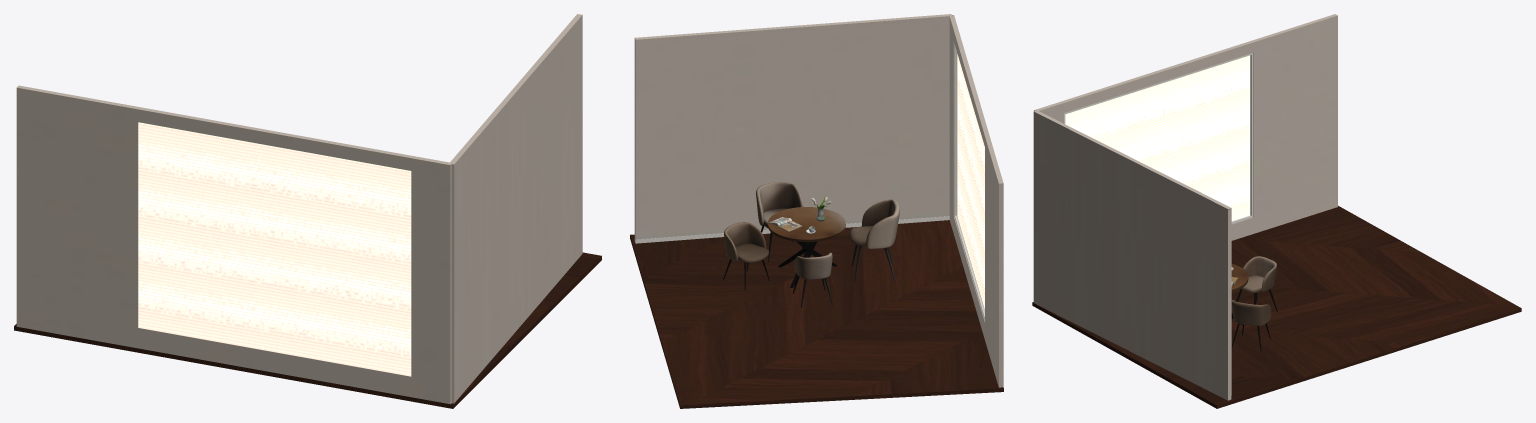
The model's file is ours.glb.
The picture shows the model from 3 angles, left to right: view 1: azimuth 30°, elevation 25°; view 2: azimuth 150°, elevation 25°; view 3: azimuth 270°, elevation 25°; orthographic projection. The views are drawn at different scales.
Visible parts, largest first — view 1: wall_1_backdrop, wall_1, wall_0, floor_0; view 2: wall_0, floor_0, wall_1, wall_1_backdrop, obj_table_0, obj_chair_2, obj_chair_1, obj_chair_0, obj_chair_3, wall_0_baseboard, wall_1_jamb_left; view 3: wall_0, floor_0, wall_1, wall_1_backdrop, obj_chair_3, obj_chair_1, wall_1_jamb_right.
Boxes of the visible parts, x1,y1,x2,y2 form: wall_1_backdrop: [138, 122, 411, 376]; wall_1: [16, 85, 451, 404]; wall_0: [449, 14, 582, 403]; floor_0: [14, 252, 601, 408]; wall_0: [634, 14, 951, 242]; floor_0: [630, 220, 1003, 408]; wall_1: [949, 15, 1003, 387]; wall_1_backdrop: [957, 54, 984, 309]; obj_table_0: [768, 207, 845, 287]; obj_chair_2: [849, 199, 899, 282]; obj_chair_1: [723, 222, 769, 290]; obj_chair_0: [756, 182, 804, 261]; obj_chair_3: [792, 252, 833, 307]; wall_0_baseboard: [635, 216, 949, 243]; wall_1_jamb_left: [954, 44, 956, 215]; wall_0: [1033, 110, 1231, 400]; floor_0: [1032, 205, 1521, 408]; wall_1: [1034, 14, 1337, 240]; wall_1_backdrop: [1065, 55, 1250, 220]; obj_chair_3: [1236, 256, 1277, 312]; obj_chair_1: [1231, 300, 1271, 351]; wall_1_jamb_right: [1250, 53, 1253, 217].
Bounding box in the file's own units: 6.29 × 2.85 × 6.48.
Materials: 18 (13 with a texture image).
